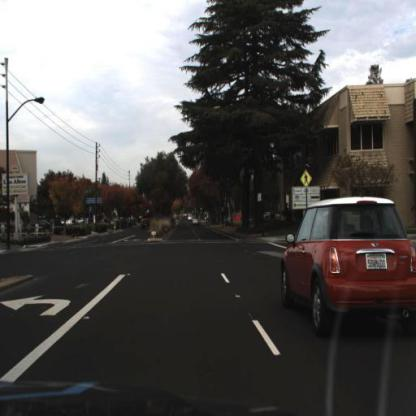car: (283, 196, 416, 337), (141, 215, 153, 229), (192, 217, 201, 227)
